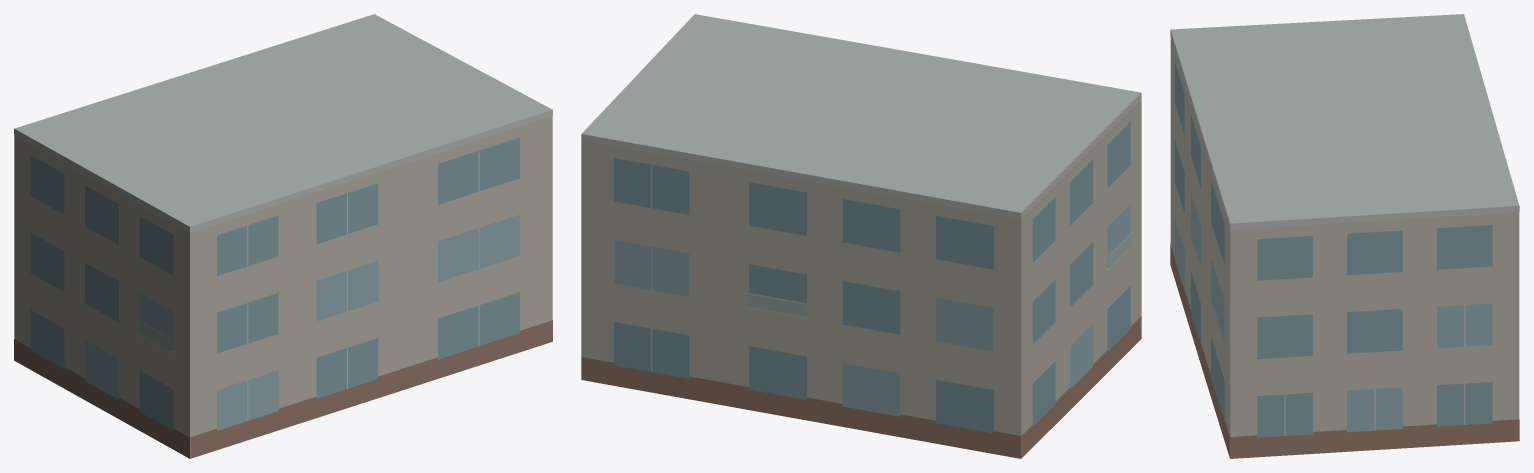
The model's file is survey-upis-32890062.glb.
3 views of the same model, side by side, from view 1: azimuth 30°, elevation 25°; view 2: azimuth 150°, elevation 25°; view 3: azimuth 270°, elevation 25° (orthographic). The views are drawn at different scales.
Visible parts, largest first — view 1: survey-upis-32890062.tmp; view 2: survey-upis-32890062.tmp; view 3: survey-upis-32890062.tmp.
Boxes of the visible parts, x1,y1,x2,y2 form: survey-upis-32890062.tmp: (14, 14, 552, 458); survey-upis-32890062.tmp: (581, 14, 1141, 458); survey-upis-32890062.tmp: (1170, 14, 1519, 458).
Bounding box in the file's own units: 17.48 × 9.15 × 12.31.
